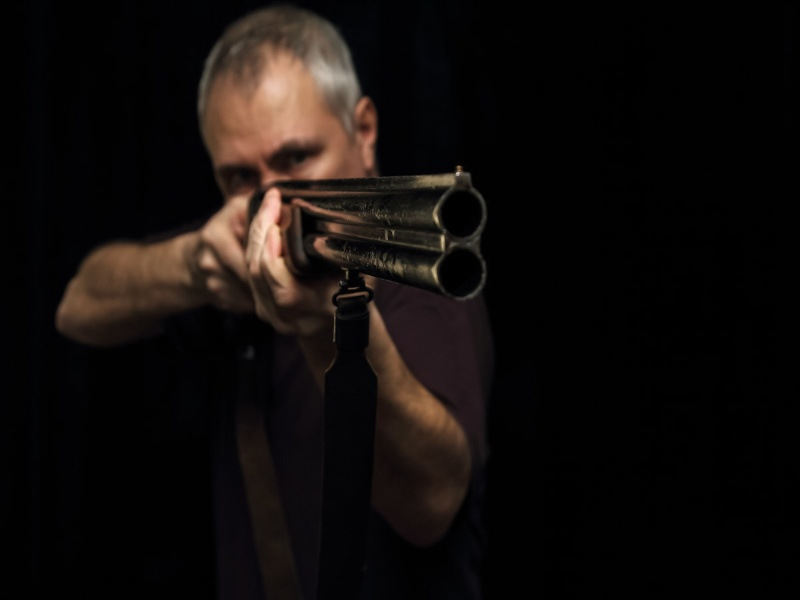person: (55, 10, 500, 591)
weapon: (247, 166, 486, 303)
